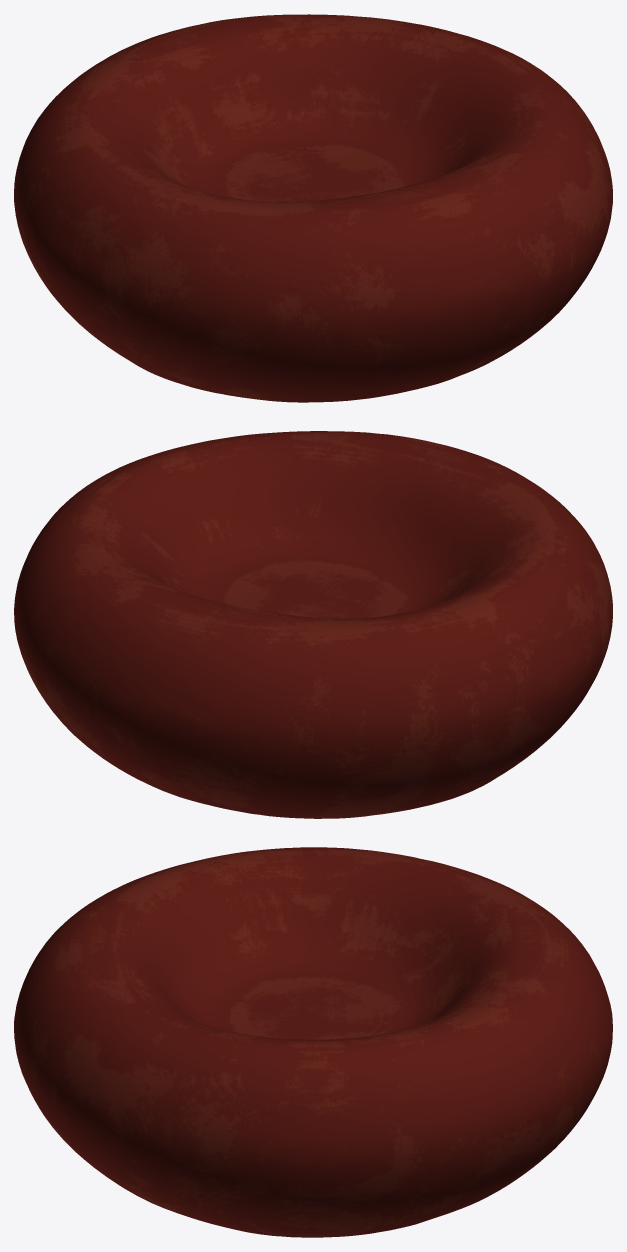
File: red-blood-cell-nexus.glb
3 renders of one model, top to bottom at view 1: azimuth 30°, elevation 25°; view 2: azimuth 150°, elevation 25°; view 3: azimuth 270°, elevation 25°, orthographic.
Parts seen in each view (by area): view 1: world; view 2: world; view 3: world.
Part boxes in pixels (x1,y1,x2,y2): world: [14, 14, 612, 402]; world: [14, 431, 612, 818]; world: [14, 847, 612, 1237].
Bounding box in the file's own units: 1 × 0.3901 × 1.
1 material, 1 textured.
